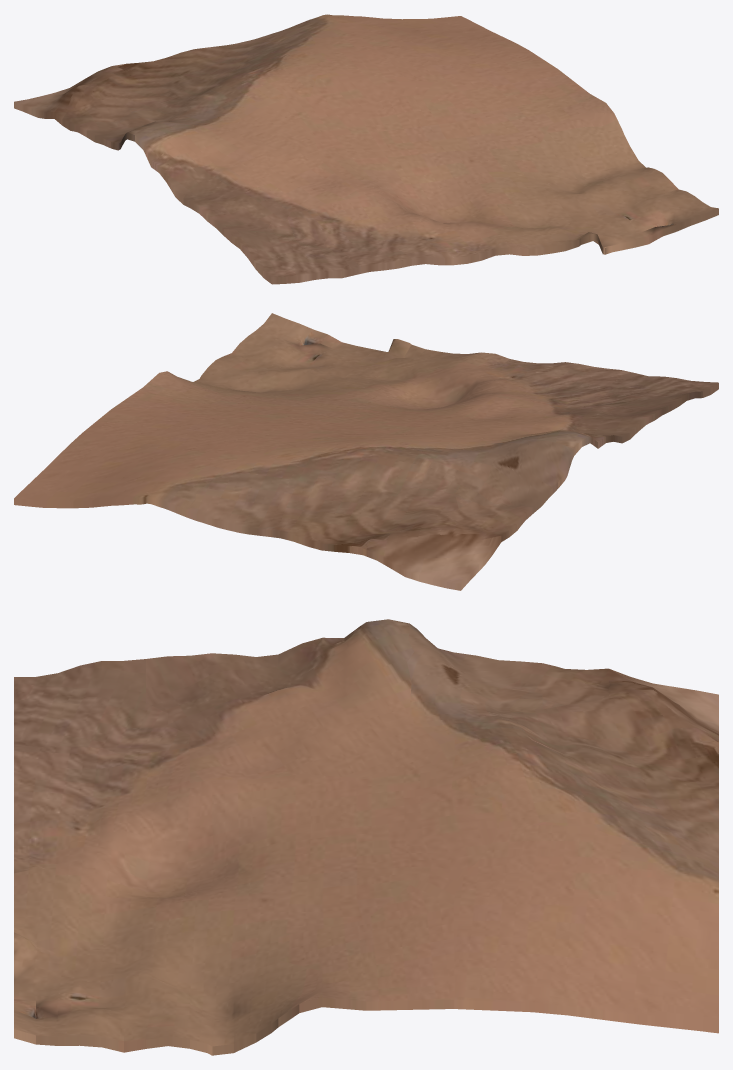
The picture shows the model from 3 angles, top to bottom: view 1: azimuth 30°, elevation 25°; view 2: azimuth 150°, elevation 25°; view 3: azimuth 270°, elevation 25°; orthographic projection. The views are drawn at different scales.
Bounding box in the file's own units: 1 × 0.2191 × 1.
Materials: 1 (1 with a texture image).
